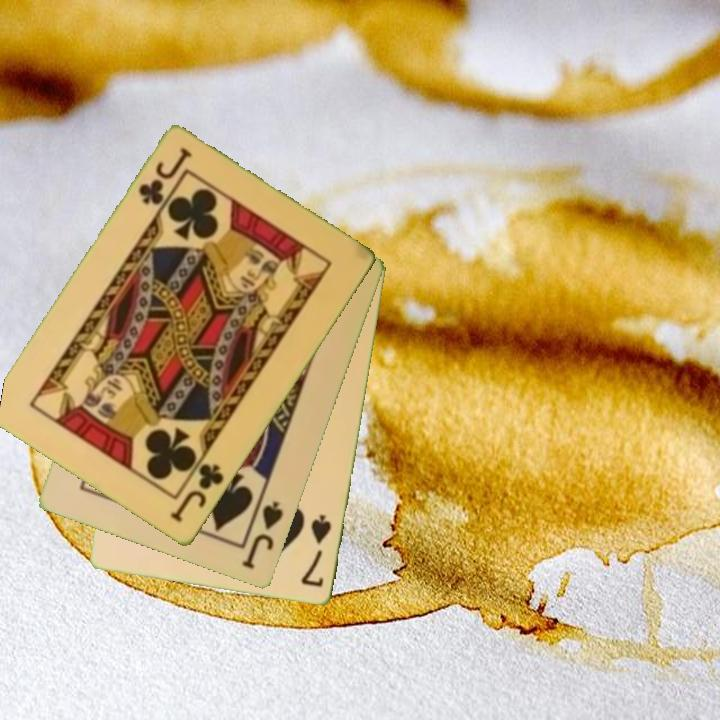7s: (297, 511, 335, 591)
Jc: (167, 460, 228, 526), (135, 144, 195, 209)
Js: (239, 498, 287, 573)
